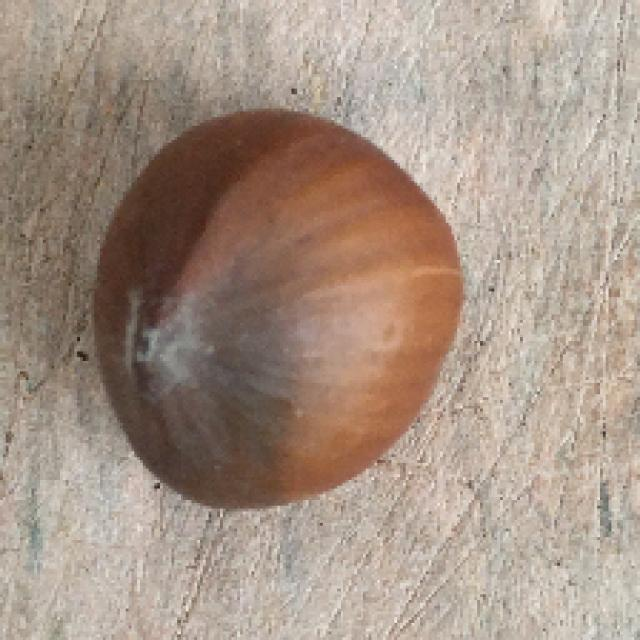damagedHazelnut: (89, 103, 470, 510)
